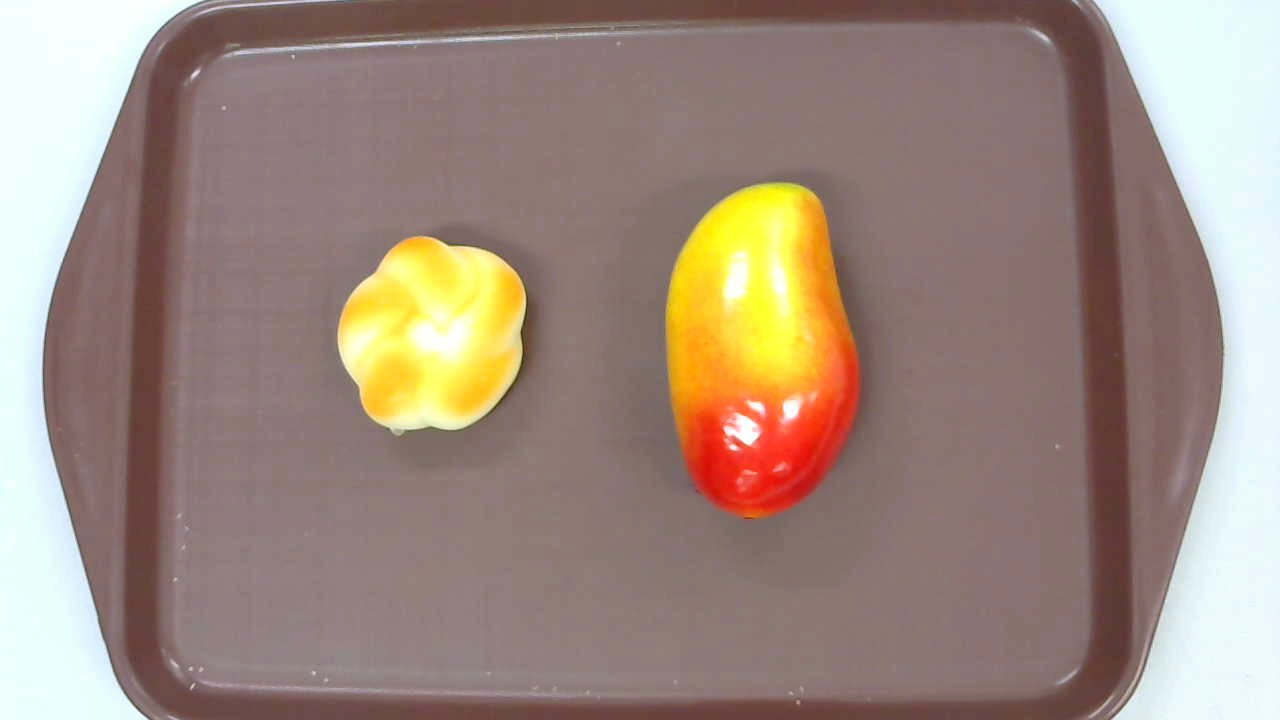red mango: (664, 182, 861, 521)
twist bread: (336, 235, 526, 437)
